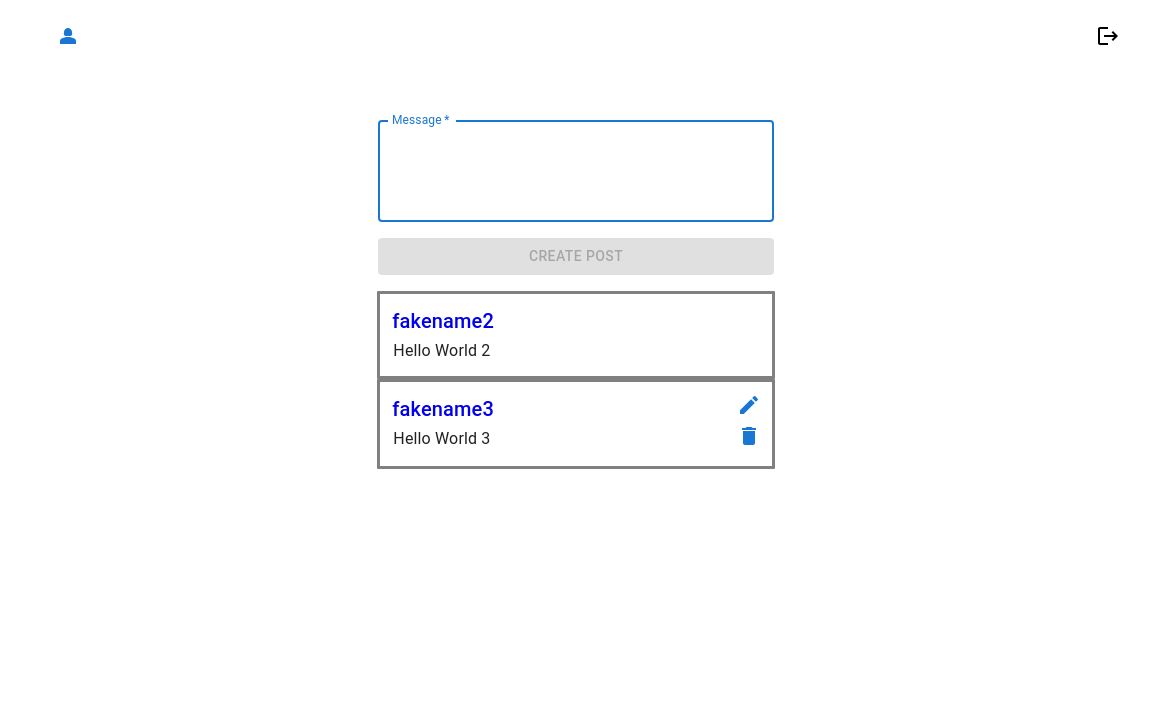
Test: Update Post › should show an error if updating the post failed
This screenshot has width=1152, height=720.
Click the link named "edit-icon" at [749, 408], box x1=737 y1=393 x2=761 y2=424
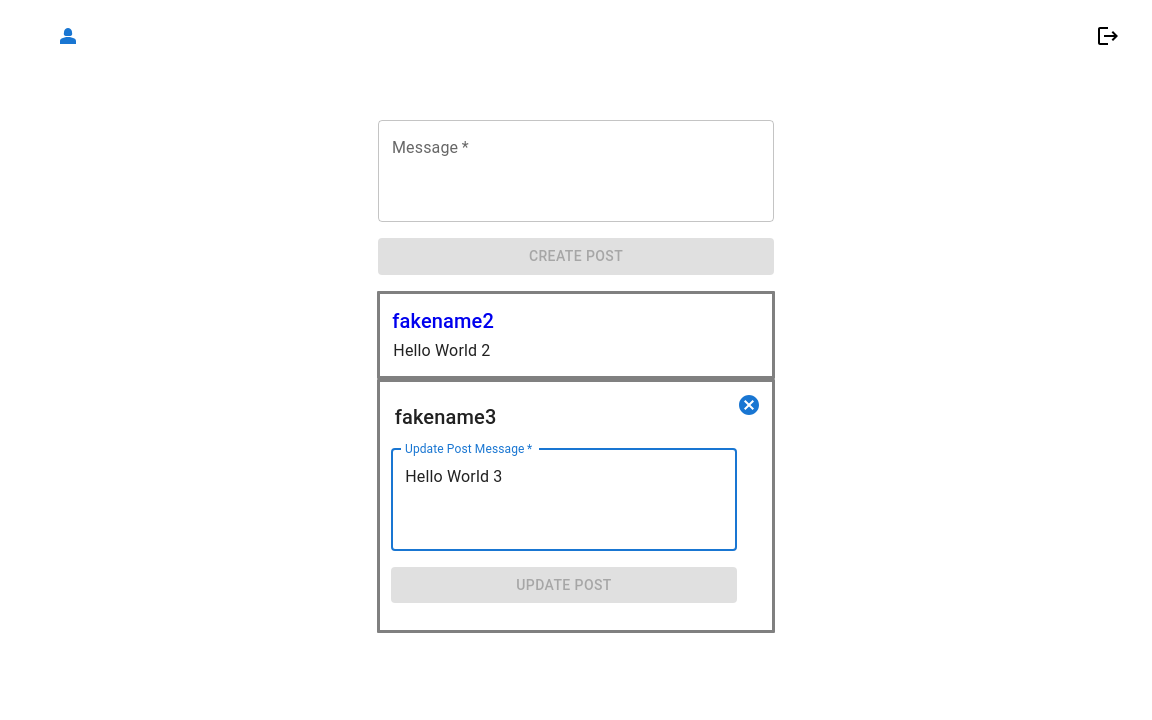
Type "New message" into the text box "Hello World 3" at [564, 500], box x1=405 y1=465 x2=723 y2=534
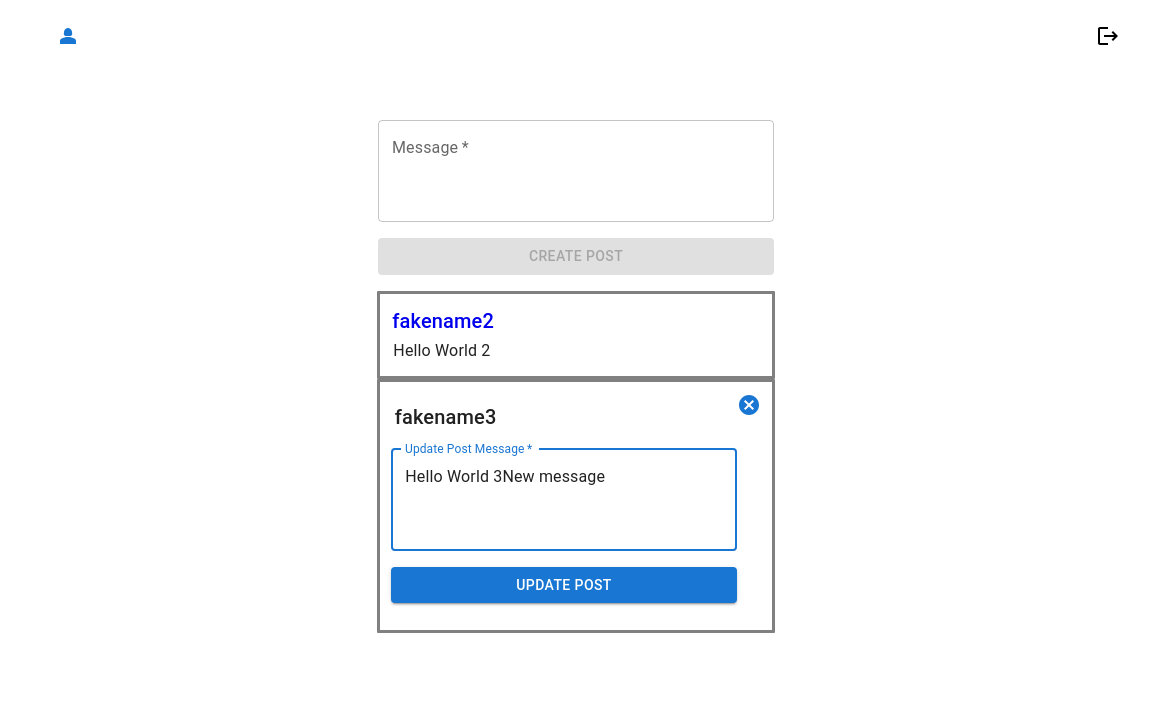
Click the button "Update Post" at [564, 585], box x1=391 y1=567 x2=737 y2=603
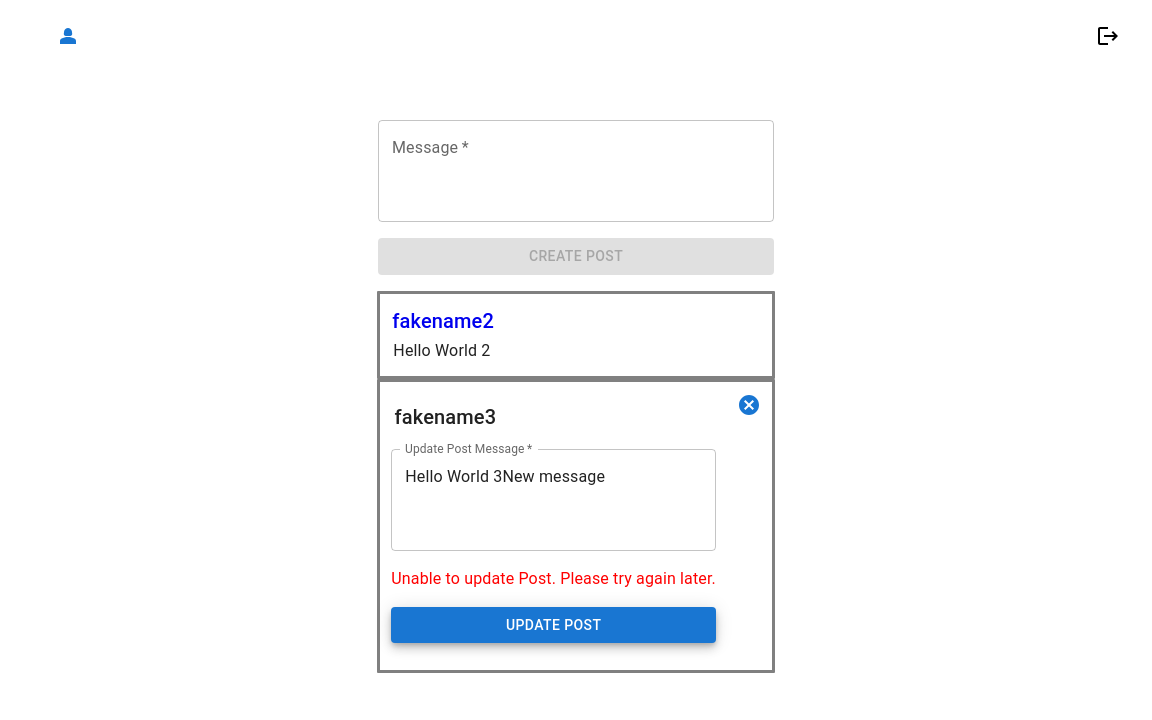
Now the text "Unable to update Post. Please try again later." is shown, box x1=391 y1=567 x2=716 y2=591
